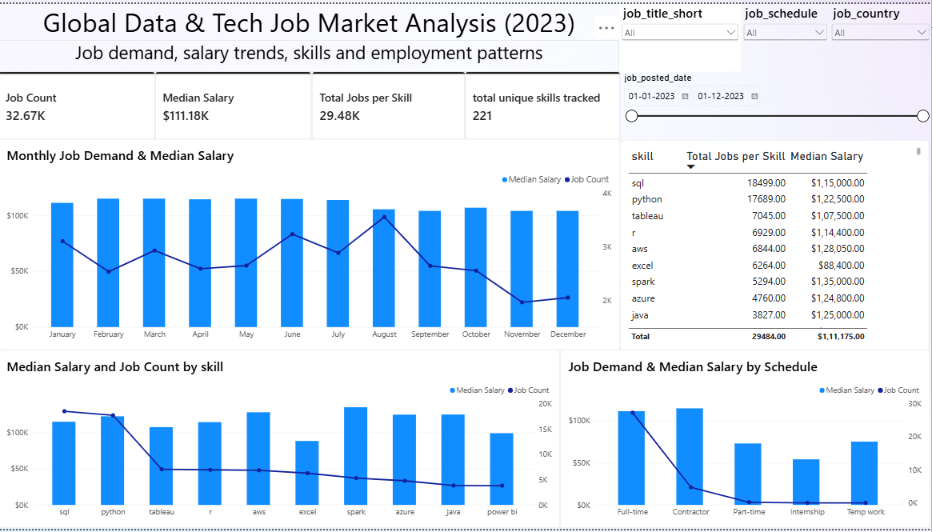

Layout of this report page (visuals, bound fields, positions):
{"tool":"powerbi","page":{"name":"Page 1","canvas":[1920,1080],"ordinal":0},"visuals":[{"type":"cardVisual","fields":{"Data":["cleaned_file.Job Count"]},"box":[0,139.6,322.9,139.6],"z":0},{"type":"cardVisual","fields":{"Data":["cleaned_file.Median Salary"]},"box":[322.9,139.6,320.8,139.6],"z":1000},{"type":"cardVisual","fields":{"Data":["job_skills_exploded.Total Jobs per Skill"]},"box":[645.8,139.6,314.6,139.6],"z":2000},{"type":"textbox","box":[0,0,1279.2,75],"z":3000},{"type":"cardVisual","fields":{"Data":["job_skills_exploded.total unique skills tracked"]},"box":[960.4,139.6,318.8,139.6],"z":4000},{"type":"tableEx","fields":{"Values":["job_skills_exploded.skill","job_skills_exploded.Total Jobs per Skill","cleaned_file.Median Salary"]},"box":[1281.2,279.2,635.4,435.4],"z":5000},{"type":"lineClusteredColumnComboChart","title":"Monthly Job Demand & Median Salary","fields":{"Y":["cleaned_file.Median Salary"],"Y2":["cleaned_file.Job Count"],"Category":["cleaned_file.job_posted_month.Variation.Date Hierarchy.Month"]},"box":[0,277.1,1279.2,435.4],"z":6000},{"type":"lineClusteredColumnComboChart","title":"Job Demand & Median Salary by Schedule","fields":{"Category":["cleaned_file.job_schedule_primary"],"Y2":["cleaned_file.Job Count"],"Y":["cleaned_file.Median Salary"]},"box":[1156.2,712.5,760.4,366.7],"z":7000},{"type":"lineClusteredColumnComboChart","fields":{"Category":["job_skills_exploded.skill"],"Y":["cleaned_file.Median Salary"],"Y2":["cleaned_file.Job Count"]},"box":[0,712.5,1156.2,366.7],"z":8000},{"type":"slicer","fields":{"Values":["cleaned_file.job_title_short"]},"box":[1279.2,0,250,139.6],"z":9000},{"type":"slicer","fields":{"Values":["cleaned_file.job_country"]},"box":[1710.4,0,210.4,139.6],"z":10000},{"type":"slicer","fields":{"Values":["cleaned_file.job_schedule_primary"]},"box":[1529.2,0,181.2,139.6],"z":11000},{"type":"slicer","fields":{"Values":["cleaned_file.job_posted_month"]},"box":[1281.2,139.6,639.6,143.8],"z":12000},{"type":"textbox","box":[0,75,1279.2,64.6],"z":13001}]}

Visuals, with their boxes in screenshot pixels (x1, y1, x2, y2), scaled from the page's 1920x1080 canvas onto the 933x532 screenshot:
cardVisual - cleaned_file.Job Count: bbox(0, 69, 157, 138)
cardVisual - cleaned_file.Median Salary: bbox(157, 69, 313, 138)
cardVisual - job_skills_exploded.Total Jobs per Skill: bbox(314, 69, 467, 138)
textbox: bbox(0, 0, 622, 37)
cardVisual - job_skills_exploded.total unique skills tracked: bbox(467, 69, 622, 138)
tableEx - job_skills_exploded.skill x job_skills_exploded.Total Jobs per Skill: bbox(623, 138, 931, 352)
"Monthly Job Demand & Median Salary" lineClusteredColumnComboChart: bbox(0, 136, 622, 351)
"Job Demand & Median Salary by Schedule" lineClusteredColumnComboChart: bbox(562, 351, 931, 531)
lineClusteredColumnComboChart - job_skills_exploded.skill x cleaned_file.Median Salary: bbox(0, 351, 562, 531)
slicer - cleaned_file.job_title_short: bbox(622, 0, 743, 69)
slicer - cleaned_file.job_country: bbox(831, 0, 932, 69)
slicer - cleaned_file.job_schedule_primary: bbox(743, 0, 831, 69)
slicer - cleaned_file.job_posted_month: bbox(623, 69, 932, 140)
textbox: bbox(0, 37, 622, 69)
